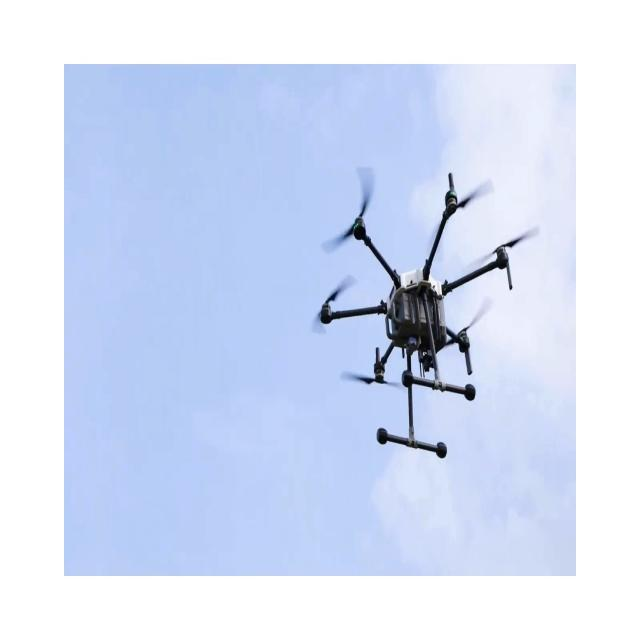drone: (318, 164, 539, 458)
